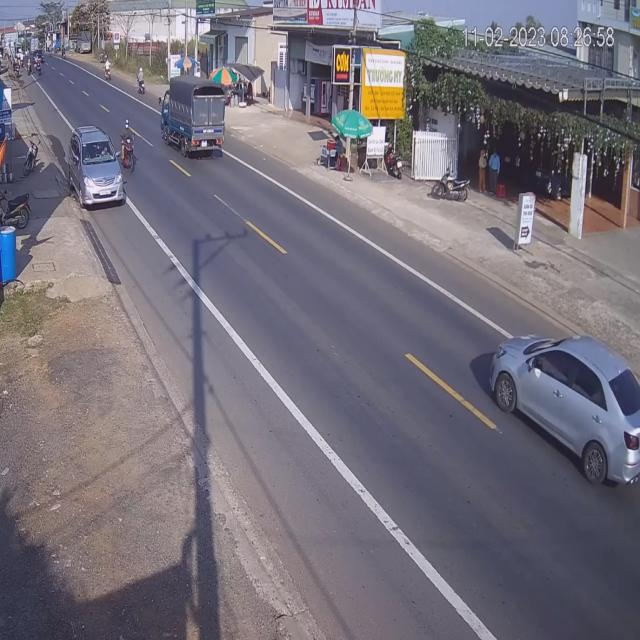car: (487, 338, 639, 488), (69, 126, 126, 206)
motorbike: (118, 120, 134, 171), (25, 135, 40, 178), (138, 73, 146, 98)
truck: (161, 80, 227, 162)
